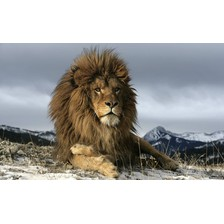lion: (47, 45, 180, 178)
